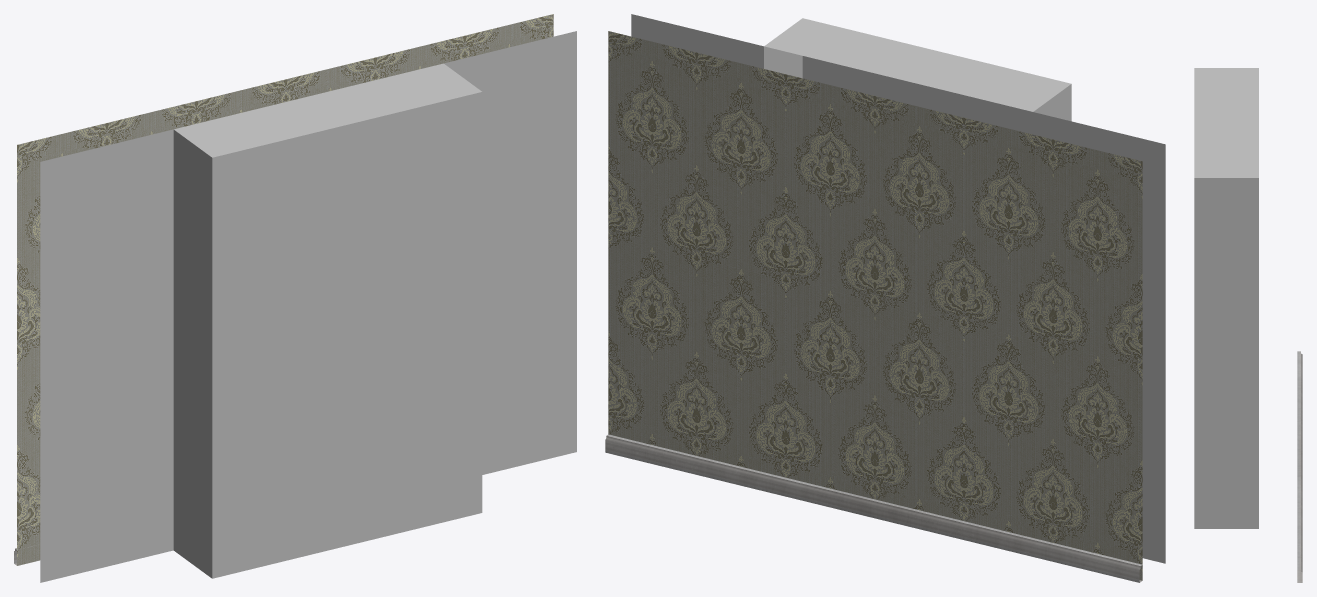
Rendered from House_07_Wall_06.fbx.
3 renders of one model, left to right at view 1: azimuth 30°, elevation 25°; view 2: azimuth 150°, elevation 25°; view 3: azimuth 270°, elevation 25°, orthographic. The views are drawn at different scales.
Visible parts, largest first — view 1: House_07_Wall_06; view 2: House_07_Wall_06; view 3: House_07_Wall_06.
Part boxes in pixels (x1,y1,x2,y2): House_07_Wall_06: (14, 14, 576, 582); House_07_Wall_06: (605, 14, 1165, 582); House_07_Wall_06: (1194, 68, 1302, 582).
Bounding box in the file's own units: 400 × 300 × 83.93.
